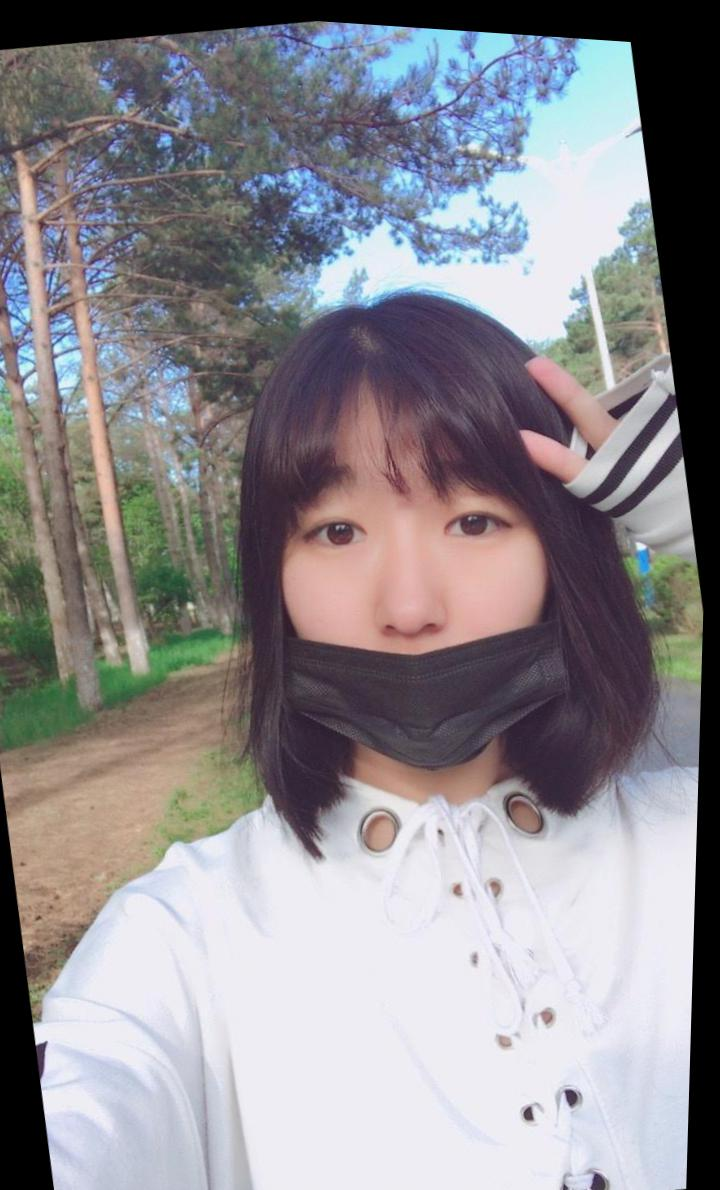WRONG: (248, 426, 586, 776)
